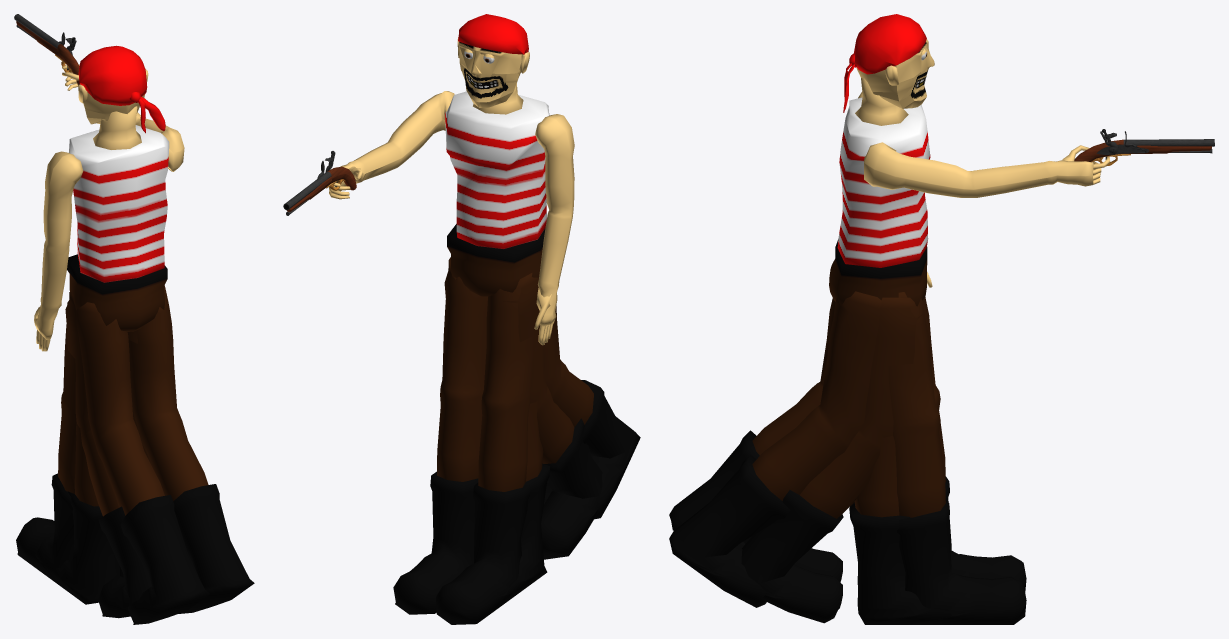
Rendered from pirate_pistol_walk.fbx.
The picture shows the model from 3 angles, left to right: view 1: azimuth 30°, elevation 25°; view 2: azimuth 150°, elevation 25°; view 3: azimuth 270°, elevation 25°; orthographic projection. The views are drawn at different scales.
Parts seen in each view (by area): view 1: Regroup02, Regroup00, Regroup06, Regroup04, Regroup01, Regroup05; view 2: Regroup04, Regroup02, Regroup06, Regroup00, Regroup01, Regroup05; view 3: Regroup02, Regroup00, Regroup04, Regroup06, Regroup01, Regroup05.
Part boxes in pixels (box(x1,y1,x2,y2)): Regroup02: box(16, 47, 254, 613); Regroup00: box(35, 46, 178, 618); Regroup06: box(76, 302, 209, 624); Regroup04: box(34, 45, 169, 604); Regroup01: box(14, 14, 78, 85); Regroup05: box(15, 14, 80, 84); Regroup04: box(332, 16, 573, 595); Regroup02: box(354, 14, 574, 624); Regroup06: box(393, 270, 640, 614); Regroup00: box(329, 17, 602, 578); Regroup01: box(283, 151, 356, 214); Regroup05: box(287, 151, 356, 214); Regroup02: box(669, 14, 1047, 607); Regroup00: box(743, 14, 1110, 624); Regroup04: box(741, 14, 1107, 623); Regroup06: box(669, 292, 1026, 624); Regroup01: box(1076, 129, 1214, 166); Regroup05: box(1074, 129, 1214, 164).
Bounding box in the file's own units: 4.46 × 15.98 × 13.46.
Materials: 2 (2 with a texture image).
